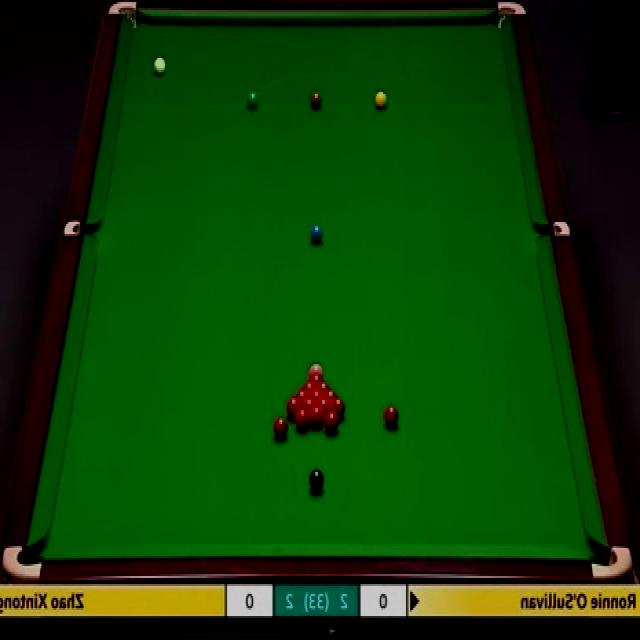black-ball: (309, 466, 325, 493)
blue-ball: (309, 224, 322, 247)
brown-ball: (310, 93, 322, 110)
green-ball: (247, 90, 258, 110)
pink-ball: (308, 359, 324, 376)
red-ball: (382, 406, 402, 431), (274, 415, 289, 443), (325, 412, 341, 435), (309, 405, 324, 429), (285, 397, 302, 417), (330, 397, 345, 418), (295, 410, 310, 431), (302, 398, 315, 416), (316, 397, 331, 412), (300, 382, 318, 392), (293, 389, 309, 400), (308, 372, 325, 382), (308, 390, 324, 400), (317, 382, 333, 391), (324, 390, 337, 401)
white-ball: (151, 52, 168, 76)
yellow-ball: (373, 89, 388, 110)
